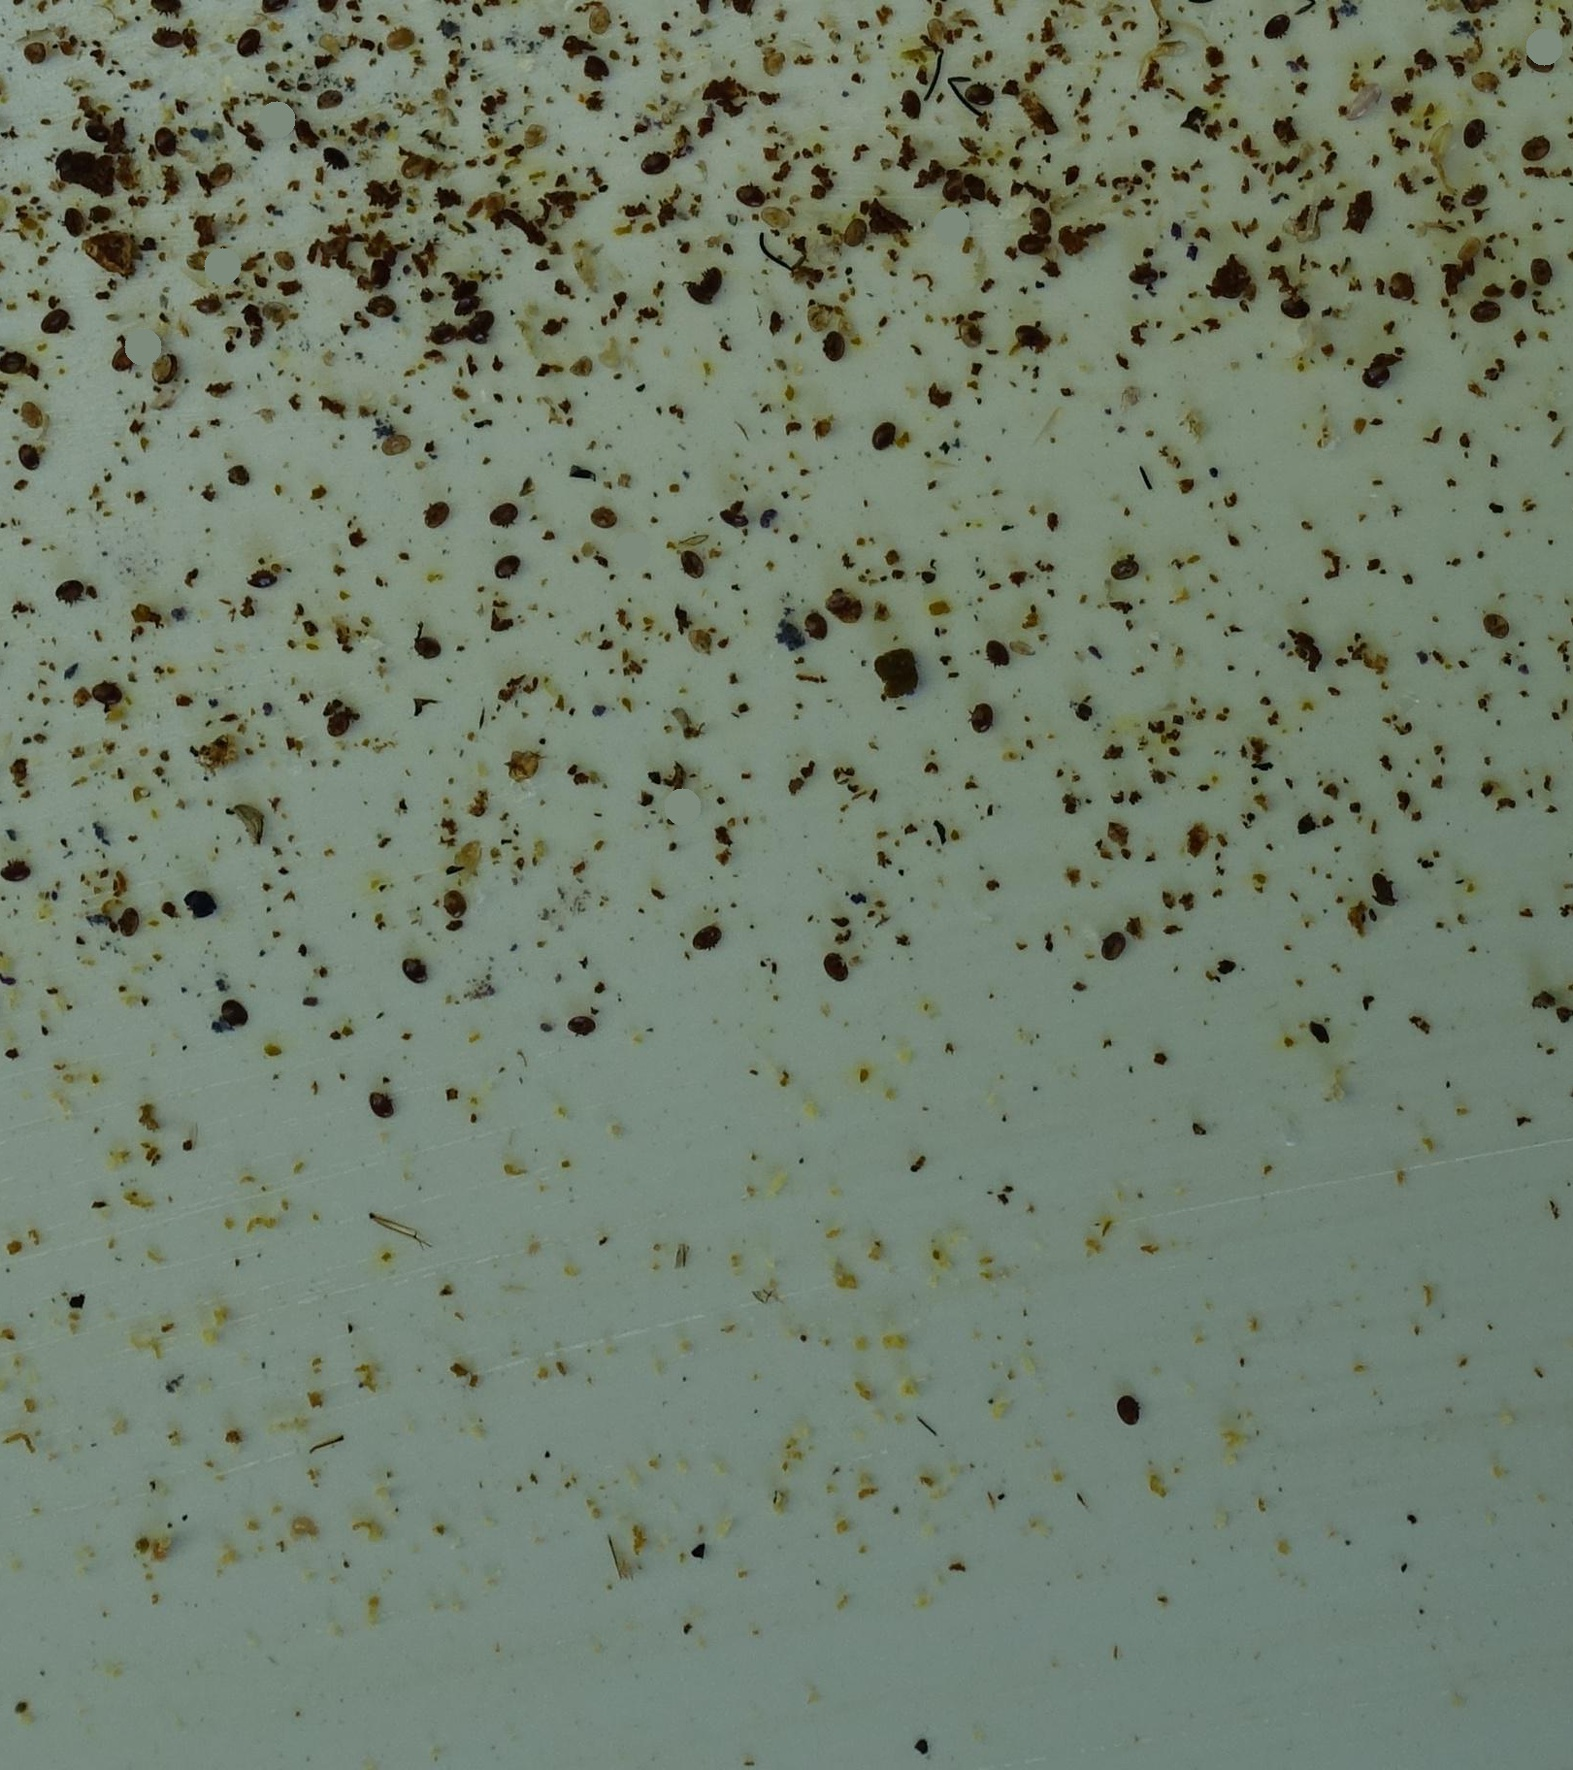Varroa: (241, 559, 282, 600), (949, 314, 988, 354), (803, 606, 834, 639), (1459, 178, 1489, 208), (689, 269, 720, 299), (1360, 354, 1391, 383), (153, 15, 182, 44), (325, 706, 352, 736), (490, 496, 518, 525), (424, 504, 451, 533), (112, 346, 140, 375), (1468, 294, 1496, 323), (1483, 612, 1511, 641), (419, 326, 446, 355), (964, 87, 991, 114), (1462, 115, 1489, 143), (487, 550, 515, 577), (582, 58, 609, 85), (841, 220, 868, 247), (194, 287, 222, 314), (982, 644, 1008, 672), (970, 707, 996, 736), (1019, 226, 1045, 255), (367, 287, 393, 314), (208, 161, 234, 188), (641, 144, 667, 172), (320, 131, 348, 156), (440, 887, 465, 915), (1521, 137, 1547, 162), (566, 1009, 592, 1035), (1388, 272, 1414, 298), (594, 505, 619, 531), (1017, 317, 1042, 345), (370, 1088, 395, 1116), (402, 959, 427, 987), (679, 550, 703, 575), (823, 331, 847, 357), (39, 310, 64, 335), (238, 30, 263, 56), (114, 909, 140, 934), (1527, 55, 1552, 80), (827, 950, 852, 976), (897, 91, 922, 117), (223, 1000, 247, 1026), (1127, 269, 1152, 293), (738, 182, 762, 206), (691, 921, 715, 946), (2, 859, 26, 883), (334, 149, 357, 175), (61, 206, 84, 231), (84, 124, 106, 149), (52, 584, 74, 607), (1262, 12, 1285, 35), (872, 430, 894, 452), (97, 682, 120, 704), (1101, 926, 1124, 949), (2, 354, 24, 376), (1283, 298, 1304, 322), (155, 135, 178, 156), (1117, 557, 1140, 578), (418, 633, 439, 654), (1534, 266, 1553, 288), (1121, 1390, 1140, 1412), (18, 446, 38, 466)
